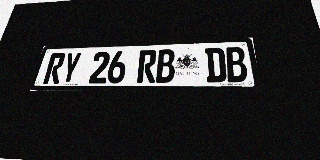2: (89, 51, 111, 83)
6: (106, 51, 128, 83)
B: (225, 47, 249, 82), (156, 49, 175, 83)
D: (205, 47, 227, 82)
R: (43, 53, 66, 84), (137, 50, 157, 83)
Y: (59, 52, 82, 84)
